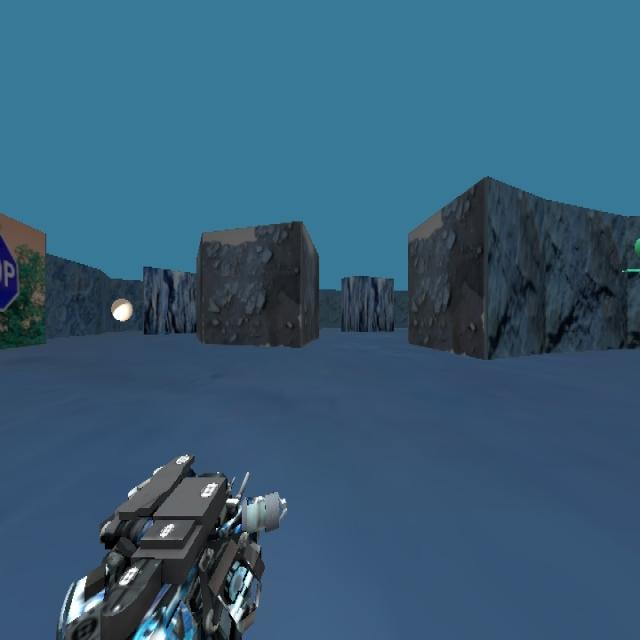Circle: (110, 297, 134, 323)
Stop_Sign: (0, 232, 20, 312)
